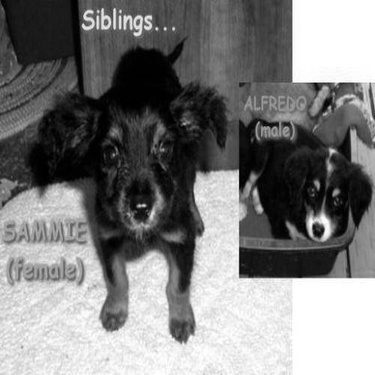dog: (16, 21, 232, 352), (245, 112, 372, 255), (220, 106, 269, 224)
